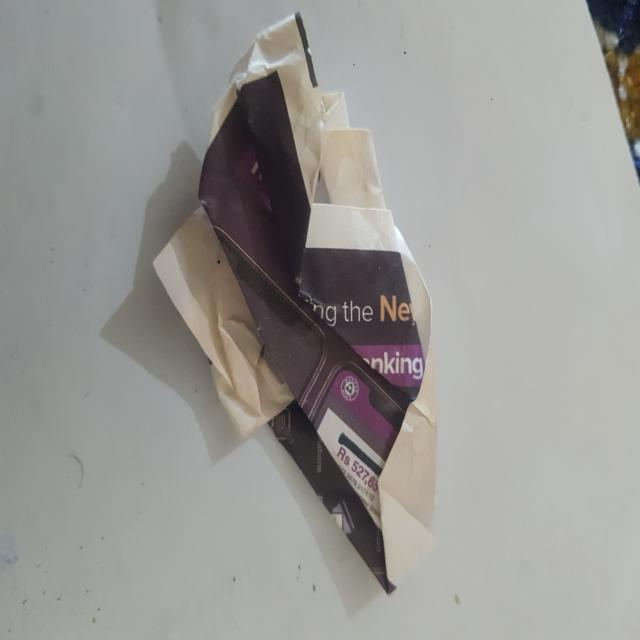electronic: (154, 12, 440, 595)
